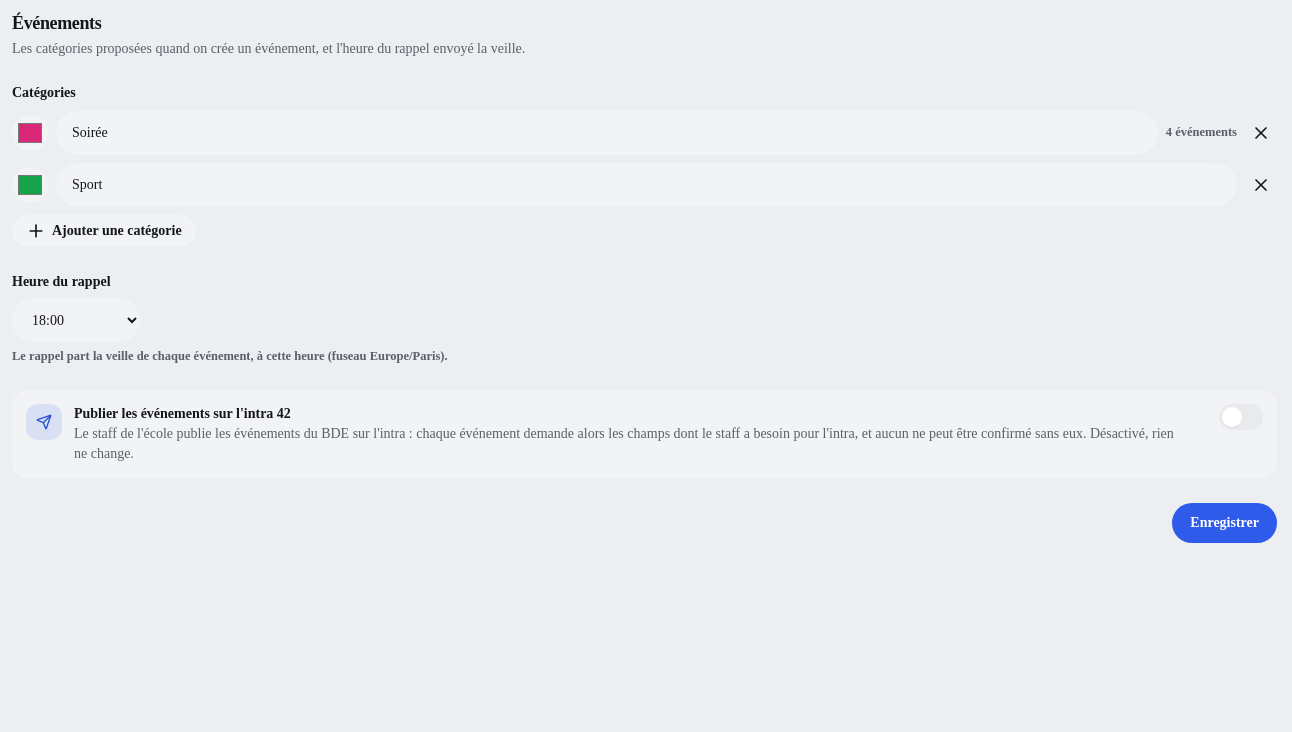
the events section › shows what the server refused, under the categories
Click the button "Enregistrer".
click(1225, 523)  # box [1172,503,1277,543]
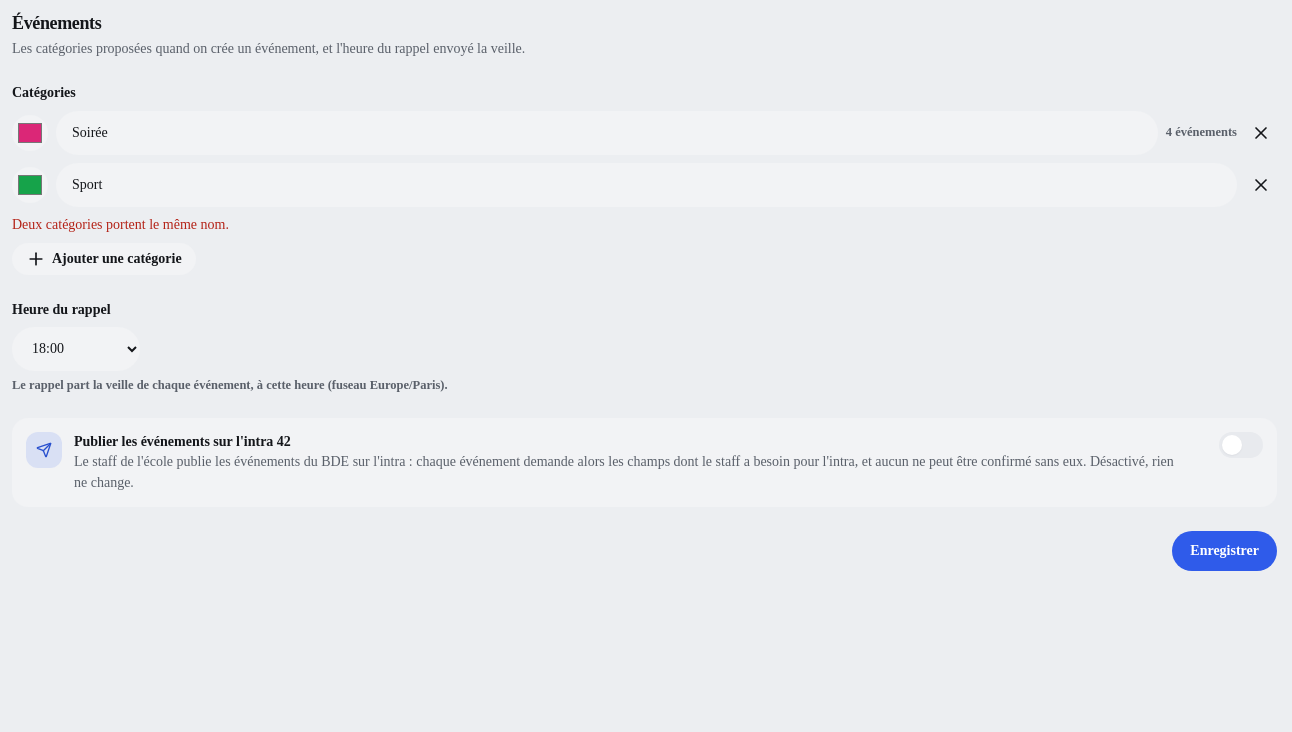
Expected: the text "Deux catégories portent le même nom." is shown, [12,217,229,232]
